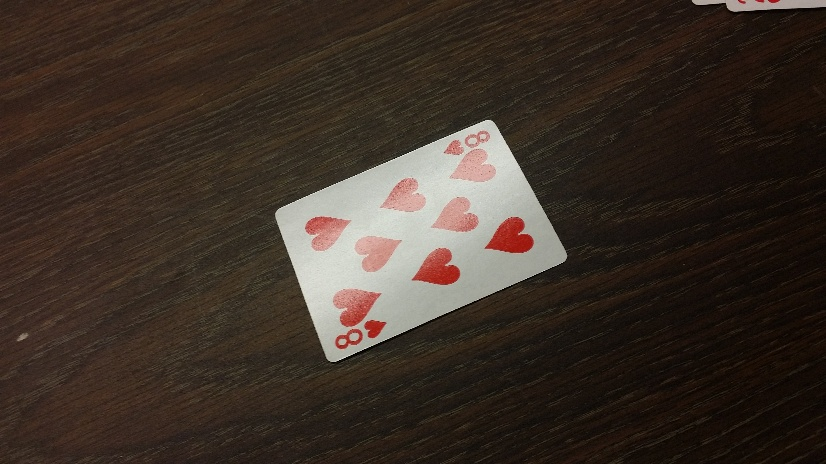H8: (331, 320, 386, 350), (444, 129, 493, 156)
